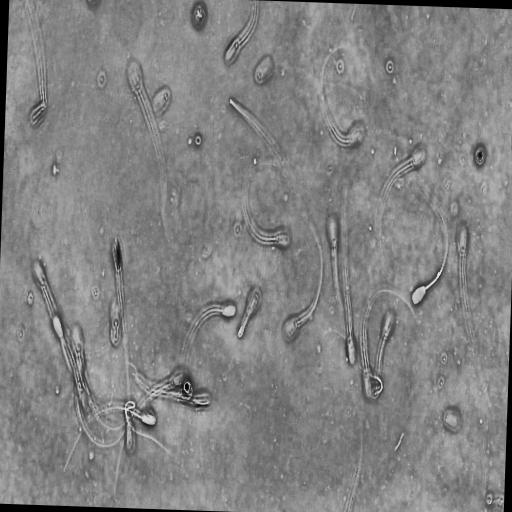dirt-particles: (175, 376, 195, 404)
distal-droplet: (436, 272, 440, 278)
folded-tail: (237, 236, 265, 337), (128, 419, 168, 452), (125, 401, 134, 427)
normal: (358, 285, 418, 403), (59, 404, 157, 475), (279, 205, 325, 343), (179, 301, 236, 401), (409, 176, 449, 308), (237, 230, 270, 339), (122, 396, 174, 462)
